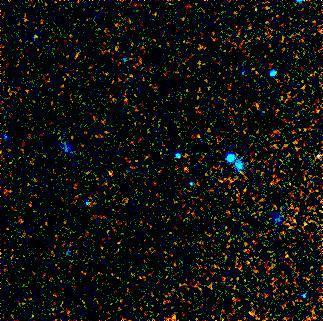star: (94, 160, 124, 190)
